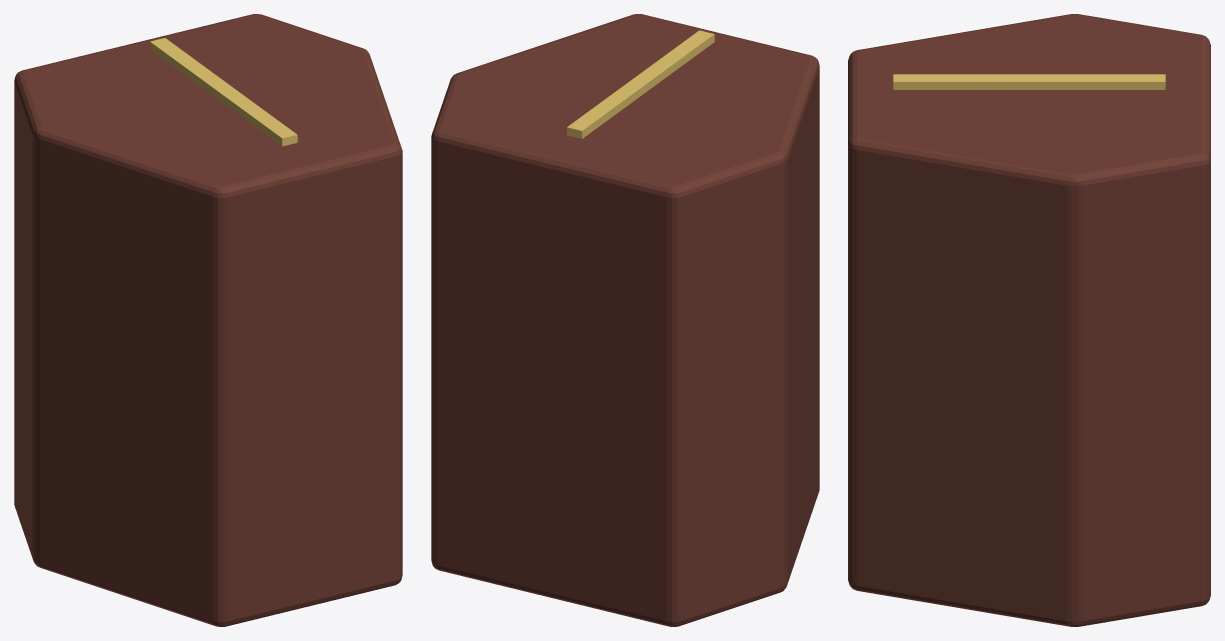
The model's file is nightstand_coffin_stand.glb.
3 views of the same model, side by side, from view 1: azimuth 30°, elevation 25°; view 2: azimuth 150°, elevation 25°; view 3: azimuth 270°, elevation 25° (orthographic). The views are drawn at different scales.
Visible parts, largest first — view 1: GD_nightstand_coffin_stand__m0, GD_nightstand_coffin_stand__m1; view 2: GD_nightstand_coffin_stand__m0, GD_nightstand_coffin_stand__m1; view 3: GD_nightstand_coffin_stand__m0, GD_nightstand_coffin_stand__m1.
Boxes of the visible parts, x1,y1,x2,y2 form: GD_nightstand_coffin_stand__m0: (14,14,402,626); GD_nightstand_coffin_stand__m1: (150,38,297,146); GD_nightstand_coffin_stand__m0: (431,14,819,626); GD_nightstand_coffin_stand__m1: (567,30,714,138); GD_nightstand_coffin_stand__m0: (848,14,1210,626); GD_nightstand_coffin_stand__m1: (893,74,1165,89).
Size of the model in its own units: 0.4351 by 0.57 by 0.4.
